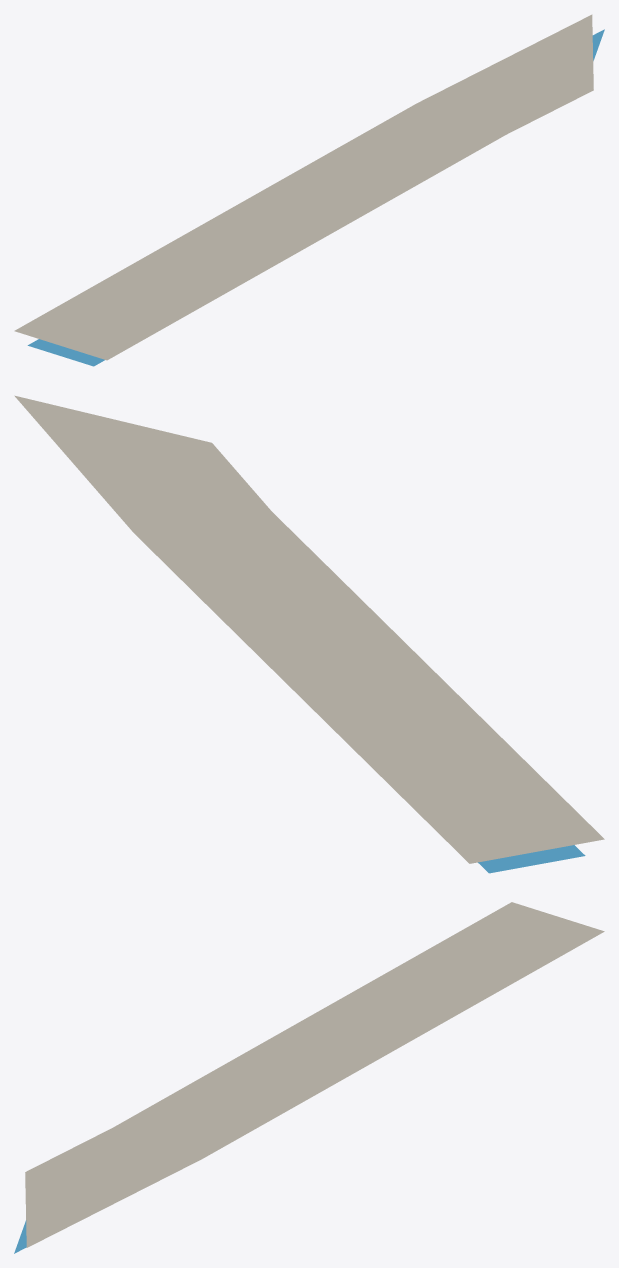
The picture shows the model from 3 angles, top to bottom: view 1: azimuth 90°, elevation 25°; view 2: azimuth 150°, elevation 25°; view 3: azimuth 270°, elevation 25°; orthographic projection. The views are drawn at different scales.
Visible parts, largest first — view 1: estructura_terreno, estructura_agua; view 2: estructura_terreno, estructura_agua; view 3: estructura_terreno.
Boxes of the visible parts, x1,y1,x2,y2 form: estructura_terreno: [14, 14, 593, 360]; estructura_agua: [27, 29, 604, 366]; estructura_terreno: [14, 395, 604, 863]; estructura_agua: [478, 845, 585, 873]; estructura_terreno: [25, 902, 604, 1247].
Size of the model in its own units: 29.57 by 0.41 by 21.34.
